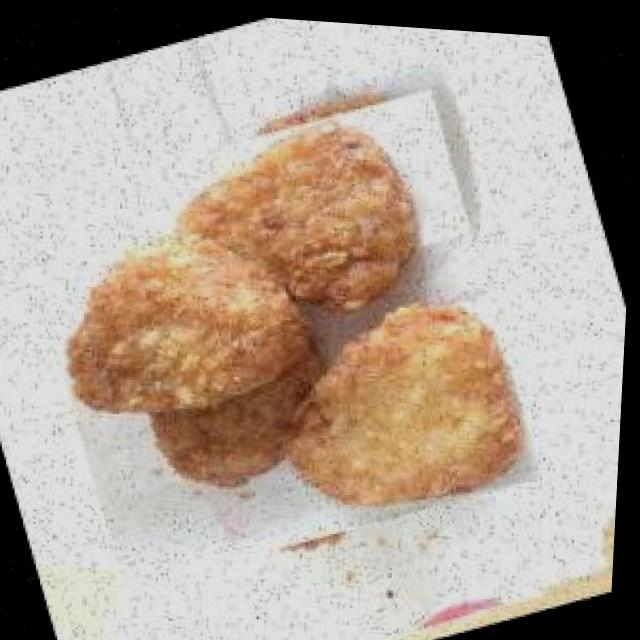triangle_hash_brown: (6, 57, 558, 614)
